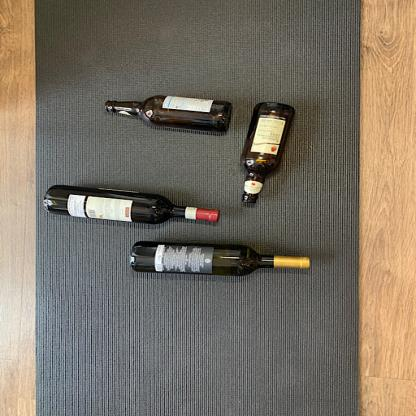trash: (127, 238, 310, 281), (46, 182, 220, 226), (238, 98, 298, 206), (104, 93, 233, 135)
